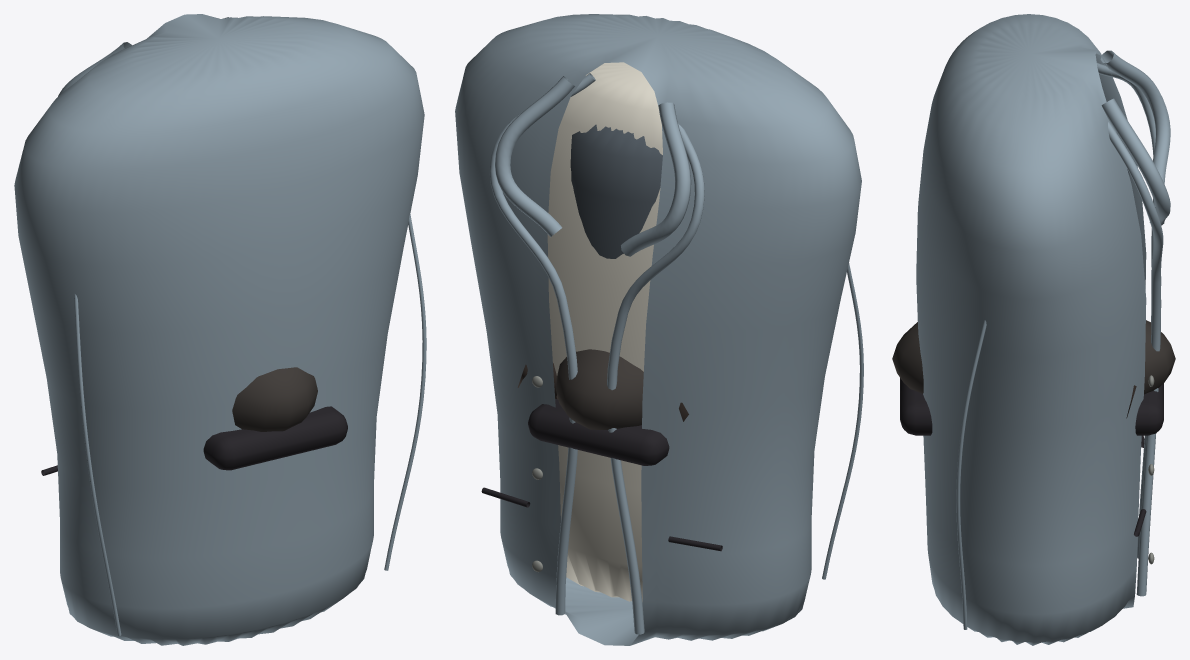
Rendered from civilian.glb.
3 views of the same model, side by side, from view 1: azimuth 30°, elevation 25°; view 2: azimuth 150°, elevation 25°; view 3: azimuth 270°, elevation 25° (orthographic). The views are drawn at different scales.
Visible parts, largest first — view 1: torso, shoe_l, shoe_r; view 2: torso, shoe_l, leg_l, shoe_r; view 3: torso, shoe_r, shoe_l.
Boxes of the visible parts, box(x1,y1,x2,y2) form: torso: box(14, 14, 426, 645); shoe_l: box(203, 367, 347, 470); shoe_r: box(226, 378, 347, 470); torso: box(455, 14, 863, 645); shoe_l: box(533, 349, 669, 465); leg_l: box(571, 124, 662, 258); shoe_r: box(528, 353, 656, 465); torso: box(916, 14, 1170, 645); shoe_r: box(892, 320, 1163, 435); shoe_l: box(892, 324, 1175, 393).
Size of the model in its own units: 0.4441 by 0.6183 by 0.29.
